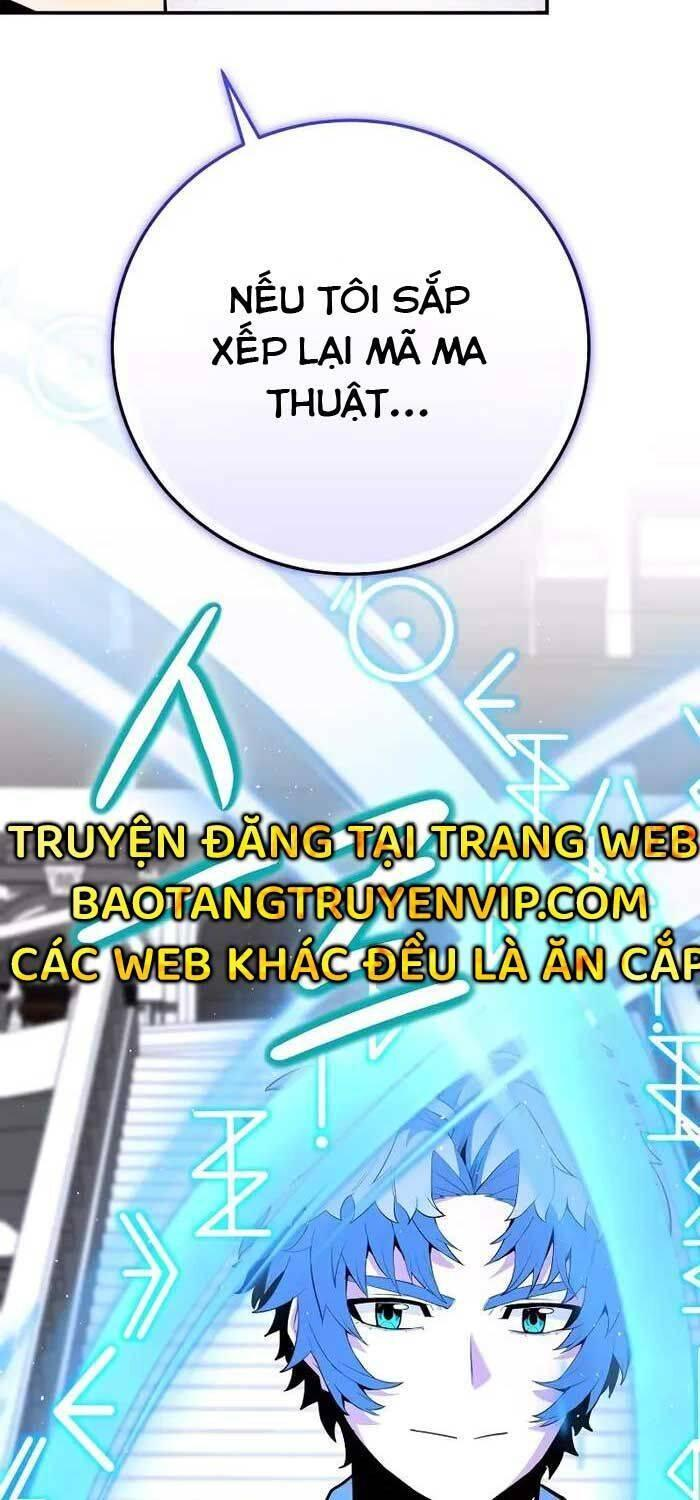quangcao: (0, 808, 700, 998)
